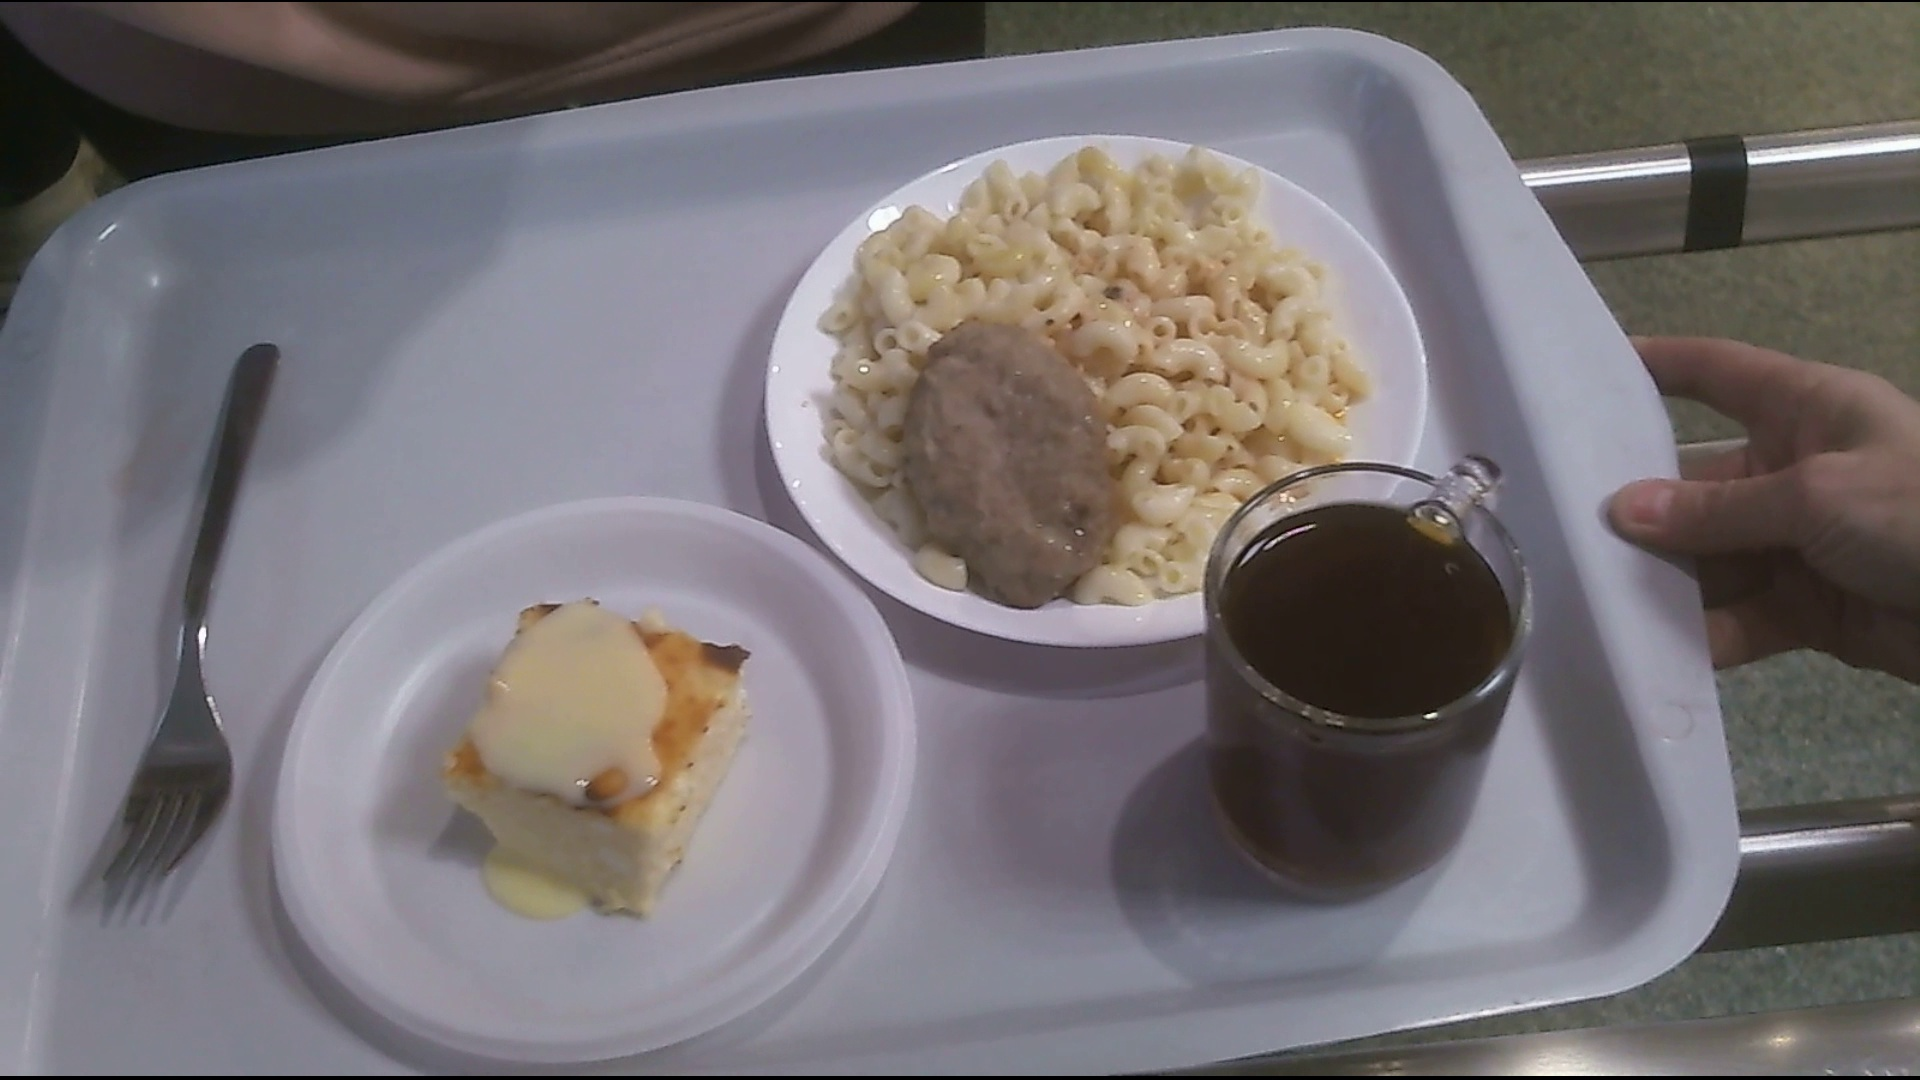cutlery: (104, 340, 285, 895)
drink: (1203, 462, 1534, 920)
plate: (280, 501, 914, 1071), (770, 135, 1428, 655)
